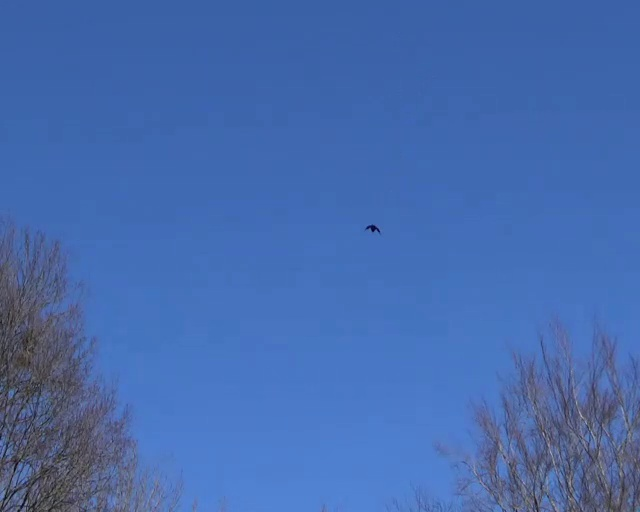BIRD: (365, 224, 381, 234)
